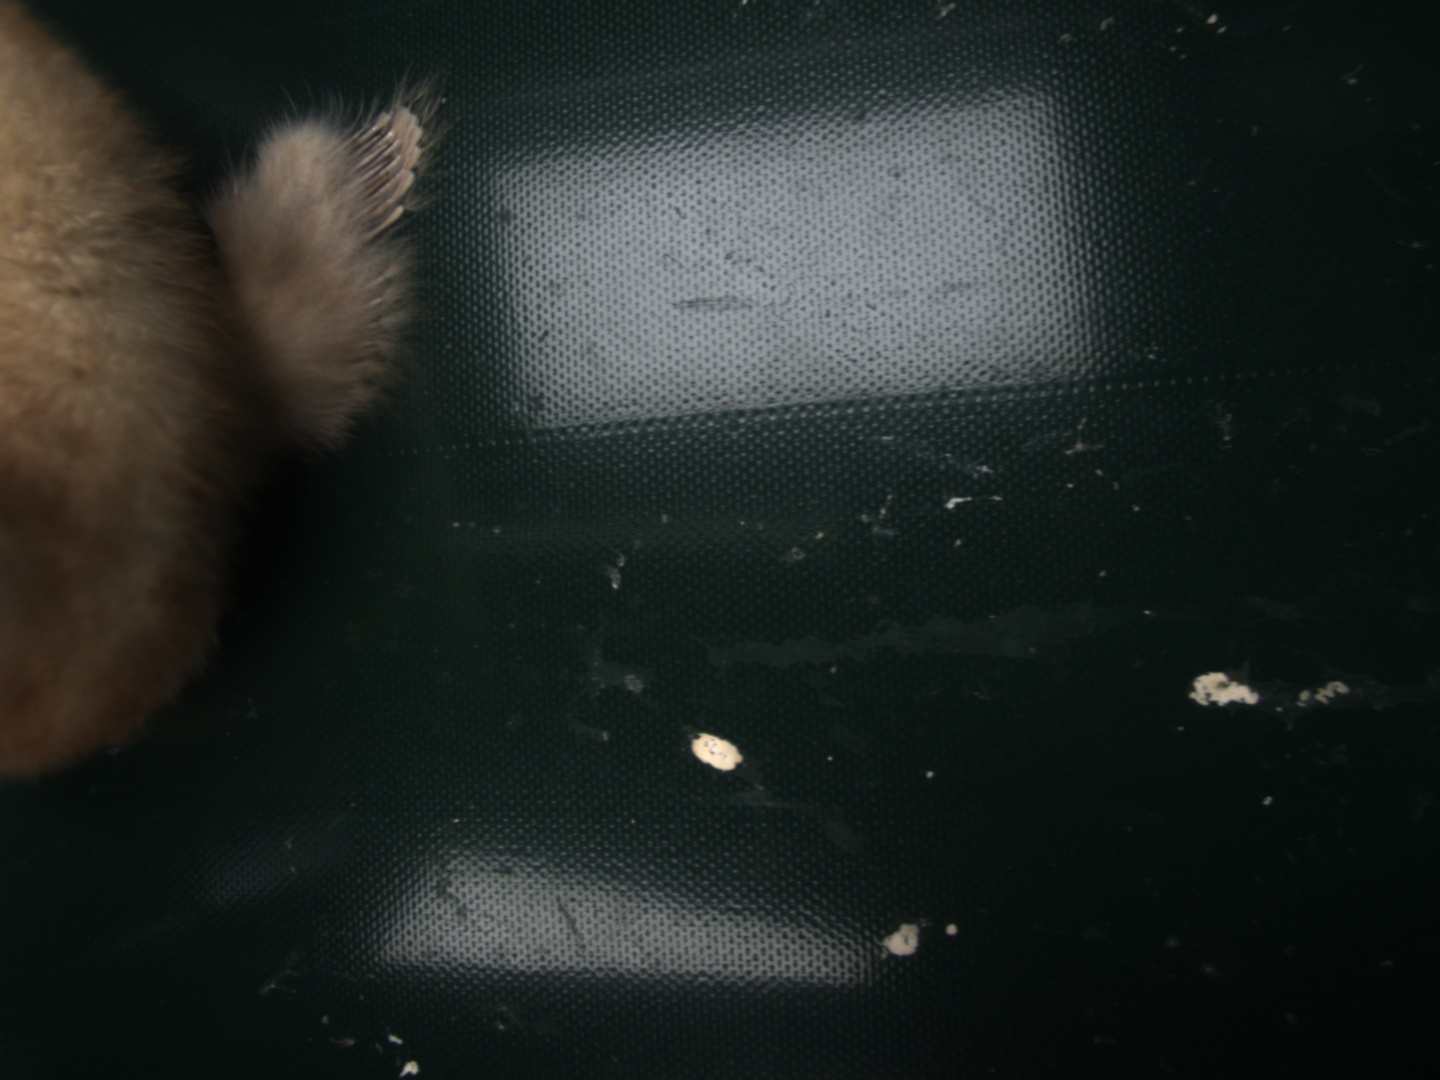female: (327, 104, 424, 243)
